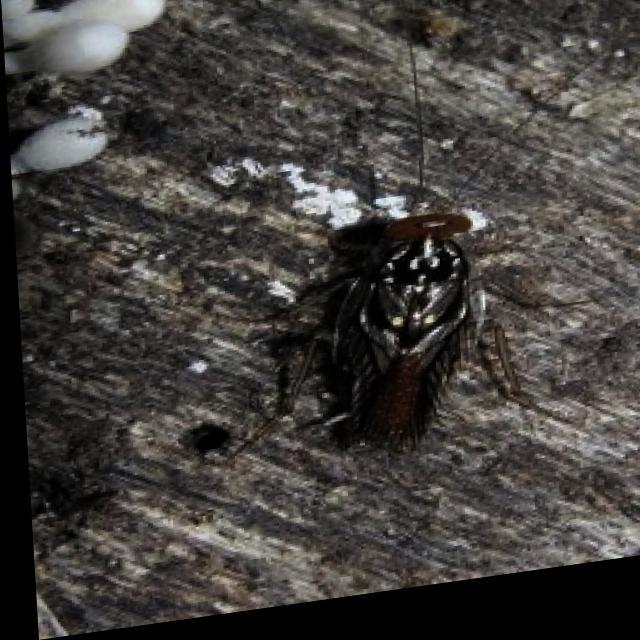cockroach: (317, 174, 503, 449)
